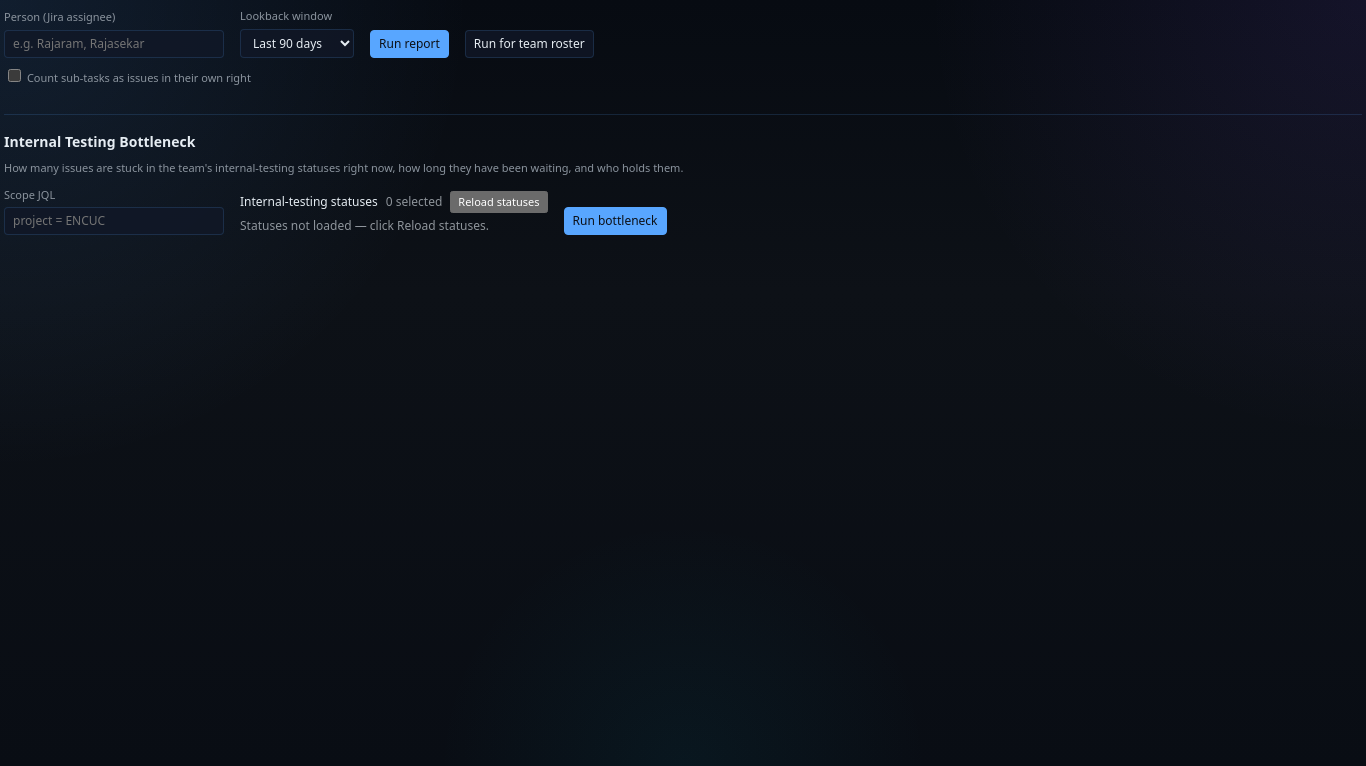
Test: PersonalFlowTab › renders the issue-audit breakdown with the excluded count and a friendly reason label
In the field labelled "Person (Jira assignee)": {"x": 114, "y": 44} 4,30 -> 224,58, type "Jane Dev"
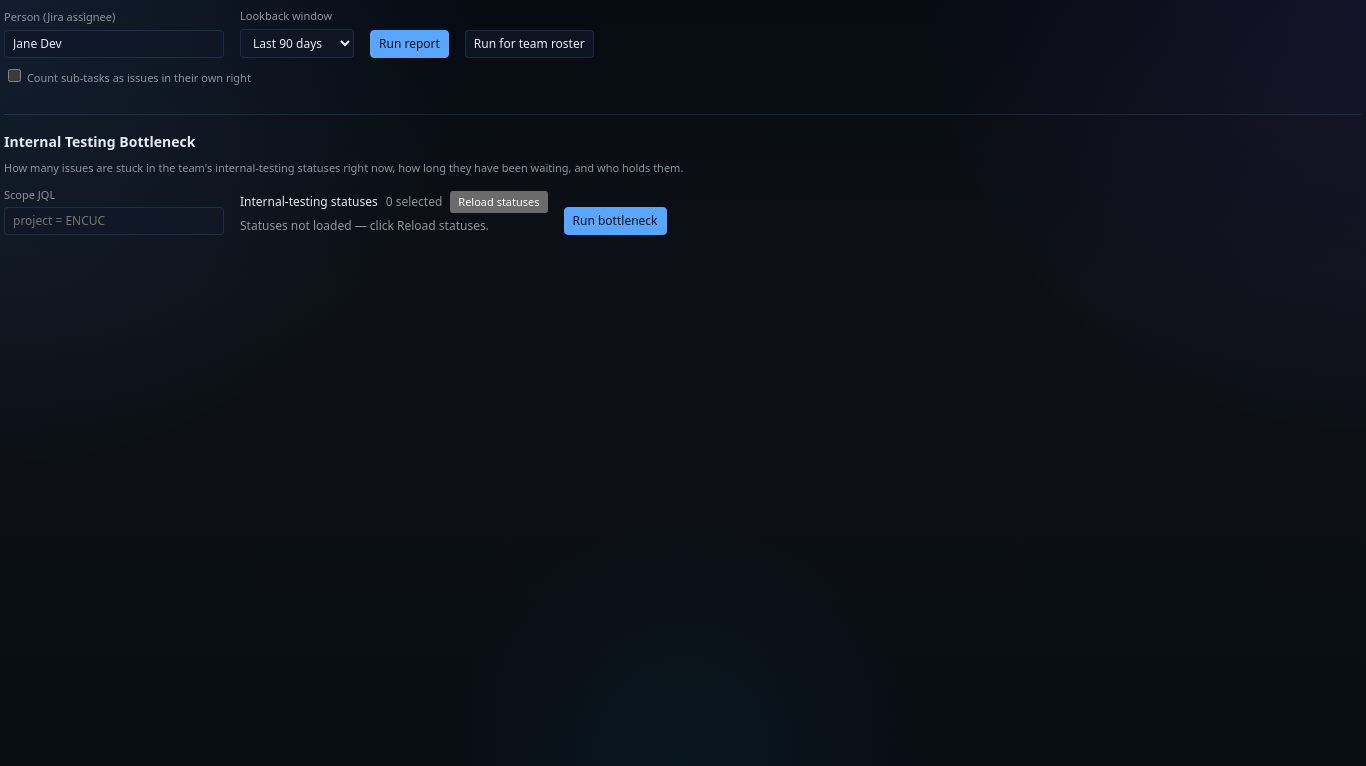
Click the button "Run report": {"x": 409, "y": 44} 370,30 -> 449,58
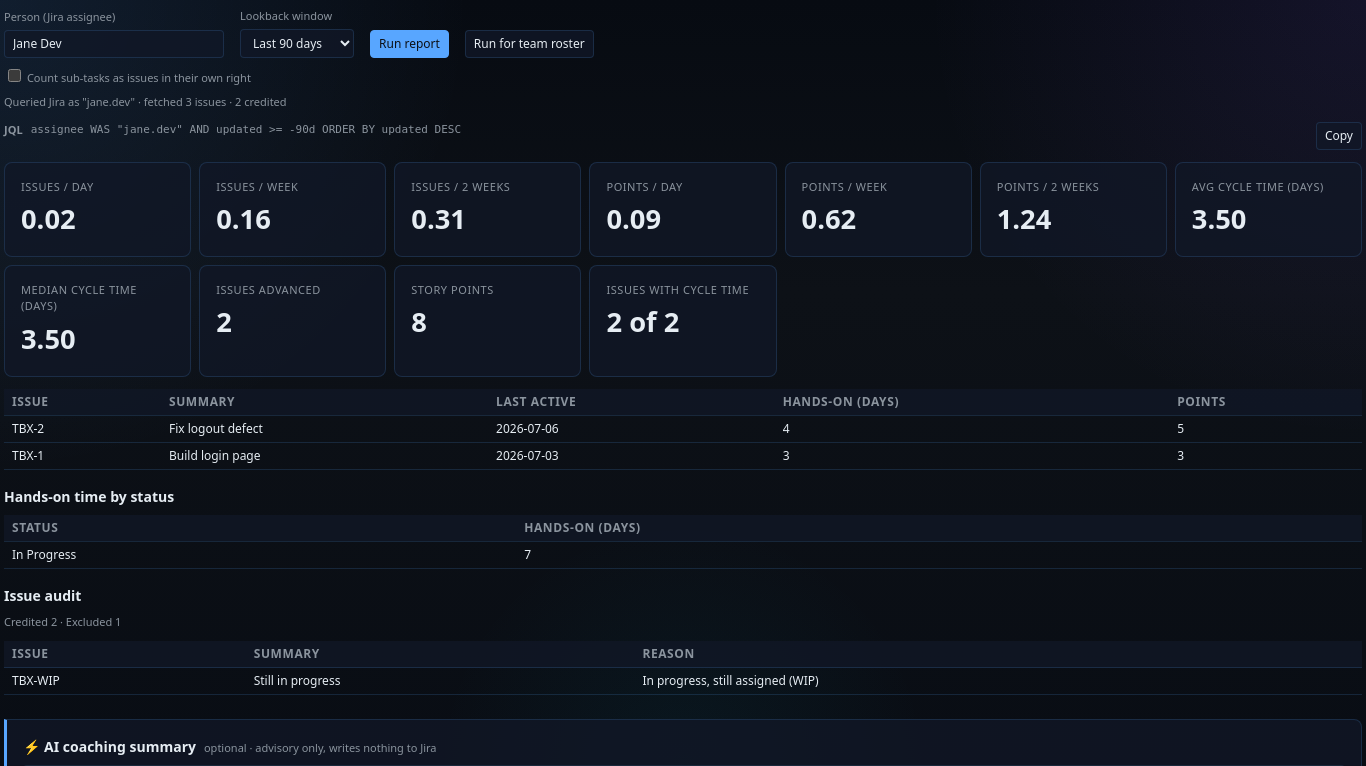
Expected: the text "TBX-1" is shown, 4,442 -> 161,469
Expected: the heading "Issue audit" is shown, 4,586 -> 81,605
Expected: the text "Credited 2 · Excluded 1" is shown, 4,614 -> 121,629
